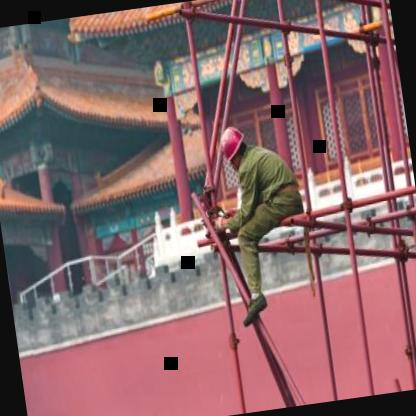helmet: (216, 124, 250, 167)
